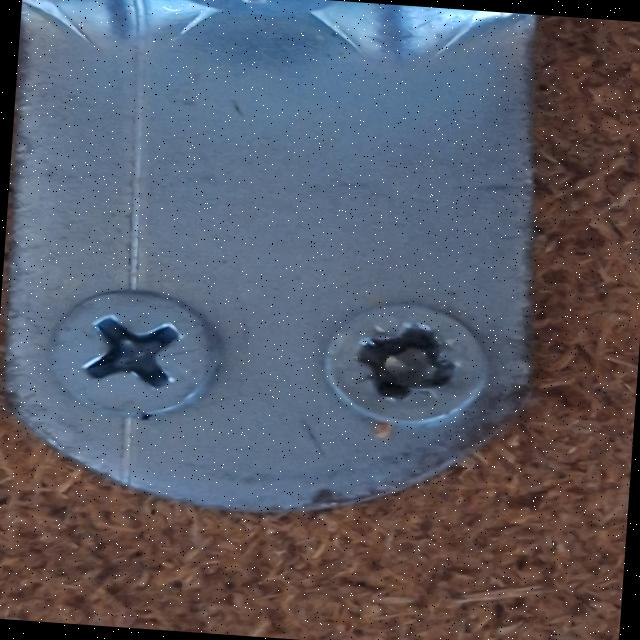Phillips: (35, 279, 238, 428)
Pozidriv: (302, 294, 519, 442)
